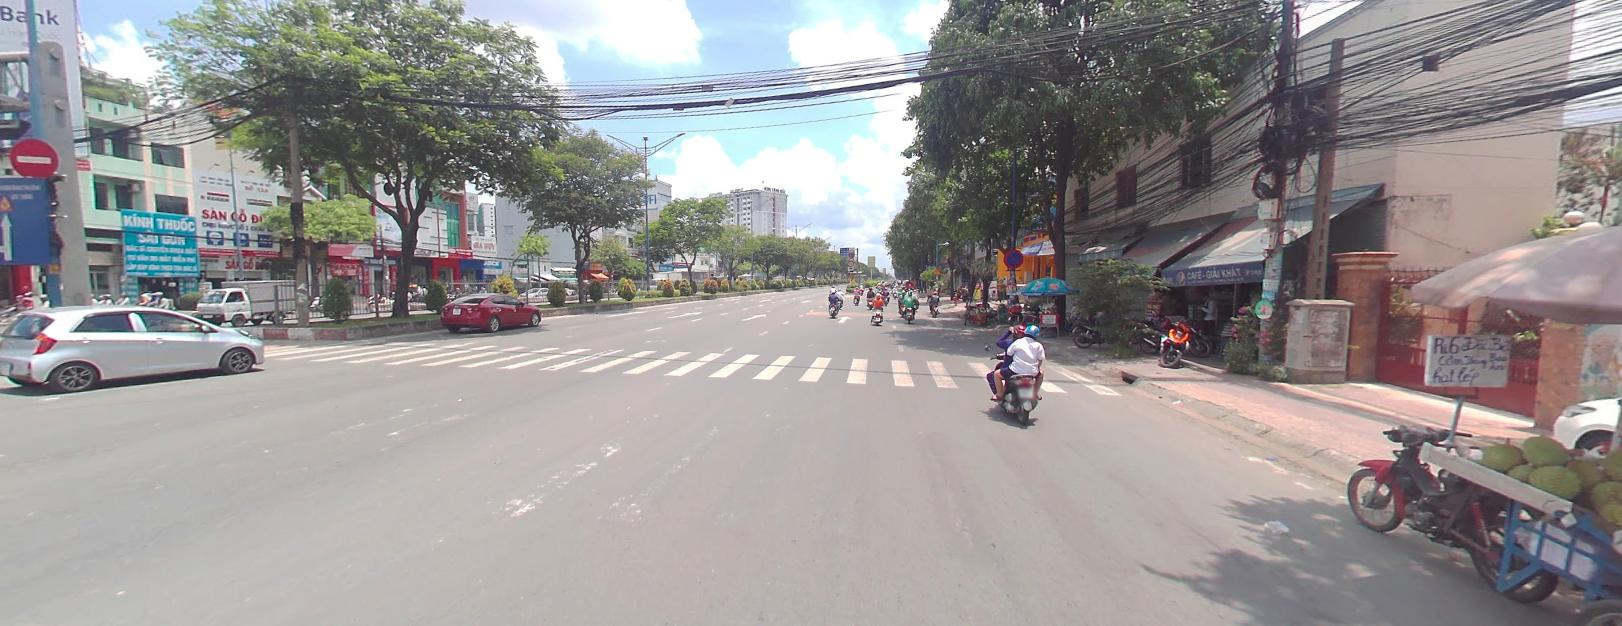Cam con lai: (847, 259, 853, 265), (849, 248, 854, 254)
Cam dung va do: (1003, 247, 1023, 266), (849, 251, 854, 256)
Cam nguoc chieu: (9, 138, 60, 178)
Nguy hiem: (933, 266, 941, 272), (847, 272, 853, 278)
